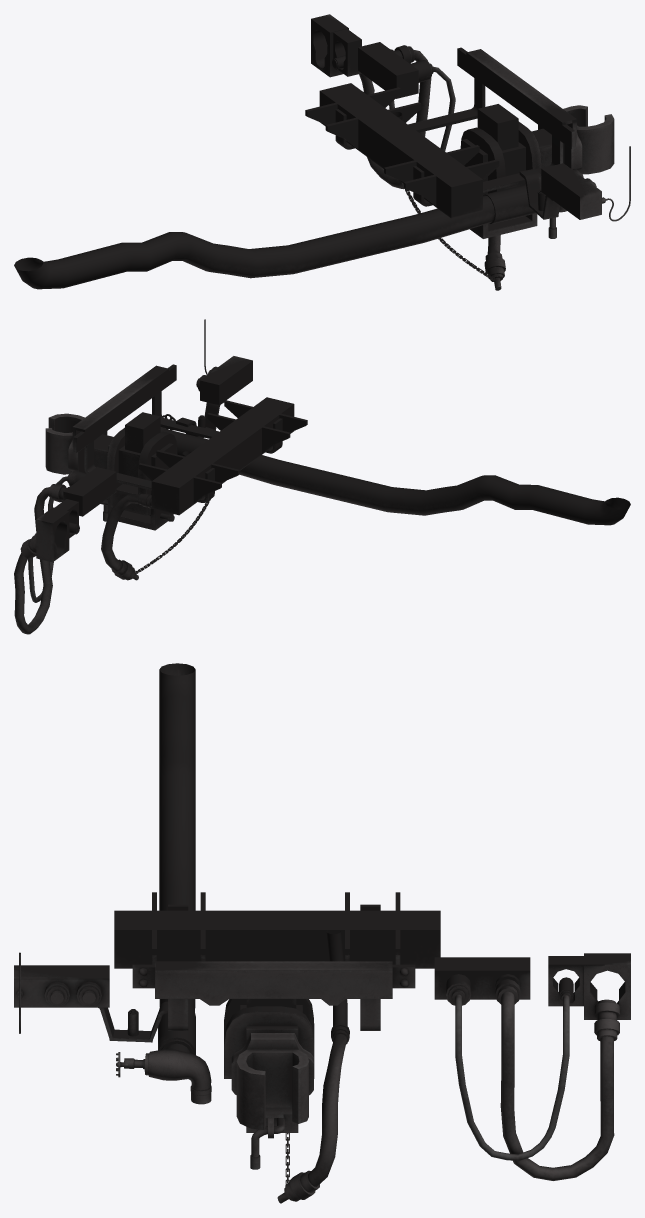
Rendered from SM_Front_Part.fbx.
The picture shows the model from 3 angles, top to bottom: view 1: azimuth 30°, elevation 25°; view 2: azimuth 150°, elevation 25°; view 3: azimuth 270°, elevation 25°; orthographic projection. The views are drawn at different scales.
Visible parts, largest first — view 1: SM_Front_Part; view 2: SM_Front_Part; view 3: SM_Front_Part.
Part boxes in pixels (bbox=[...]): SM_Front_Part: bbox=[14, 14, 630, 290]; SM_Front_Part: bbox=[14, 319, 630, 634]; SM_Front_Part: bbox=[14, 663, 630, 1203].
Bounding box in the file's own units: 335 × 230 × 109.
1 material, 1 textured.
